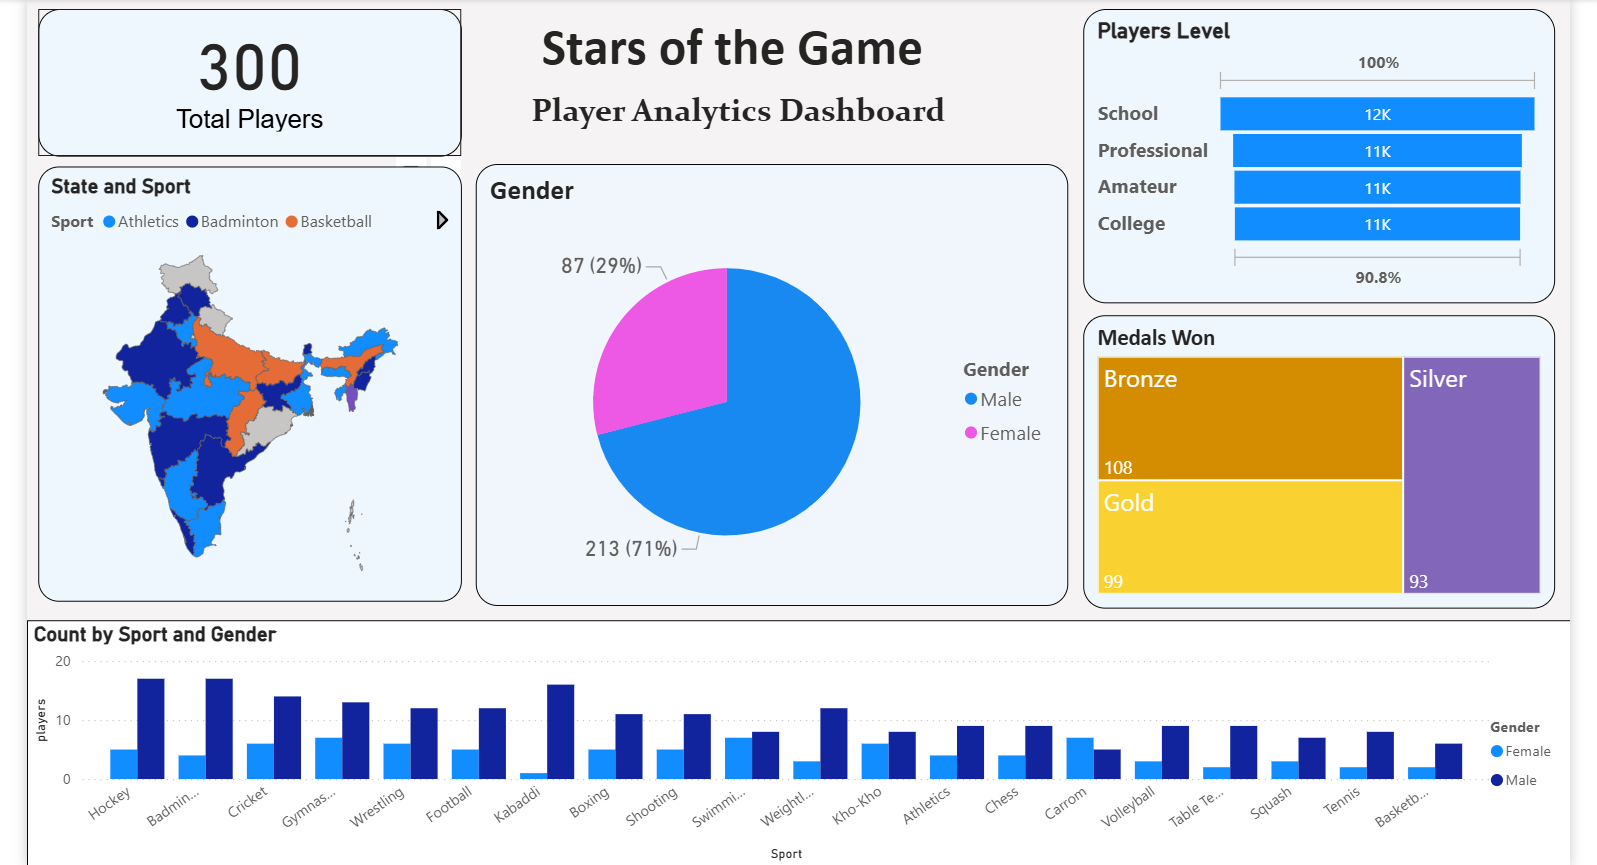

What the dashboard file says about the page in this screenshot:
{"tool":"powerbi","page":{"name":"Page 1","canvas":[1280,720],"ordinal":0},"visuals":[{"type":"clusteredColumnChart","title":"Count by Sport and Gender","fields":{"Category":["Sheet1.Sport"],"Y":["CountNonNull(Sheet1.player_id)"],"Series":["Sheet1.Gender"]},"box":[0,514.6,1280.3,205.8],"z":0},{"type":"card","fields":{"Values":["CountNonNull(Sheet1.player_id)"]},"box":[9.6,8.2,351.3,122.1],"z":1000},{"type":"pieChart","title":"Gender","fields":{"Category":["Sheet1.Gender"],"Y":["CountNonNull(Sheet1.player_id)"]},"box":[371.9,137.2,491.3,366.4],"z":2000},{"type":"treemap","title":"Medals Won","fields":{"Group":["Sheet1.MedalsWon"],"Values":["CountNonNull(Sheet1.Sport)"]},"box":[875.5,262.1,391.1,242.9],"z":3000},{"type":"funnel","title":"Players Level","fields":{"Y":["Sum(Sheet1.player_id)"],"Category":["Sheet1.Level"]},"box":[875.5,8.2,391.1,244.3],"z":4000},{"type":"shapeMap","title":"State and Sport","fields":{"Category":["Sheet1.State"],"Series":["Sheet1.Sport"],"Value":["CountNonNull(Sheet1.State)"]},"box":[9.6,138.6,351.3,360.9],"z":5000},{"type":"textbox","box":[421.3,8.2,348.5,61.7],"z":6000},{"type":"textbox","box":[408.9,70,373.2,60.4],"z":7000}]}

Visuals, with their boxes in screenshot pixels (x1, y1, x2, y2):
"Count by Sport and Gender" clusteredColumnChart: x1=29 y1=614 x2=1546 y2=858
card - CountNonNull(Sheet1.player_id): x1=40 y1=14 x2=457 y2=159
"Gender" pieChart: x1=470 y1=167 x2=1052 y2=601
"Medals Won" treemap: x1=1066 y1=315 x2=1530 y2=603
"Players Level" funnel: x1=1066 y1=14 x2=1530 y2=303
"State and Sport" shapeMap: x1=40 y1=168 x2=457 y2=596
textbox: x1=528 y1=14 x2=941 y2=87
textbox: x1=514 y1=87 x2=956 y2=159
